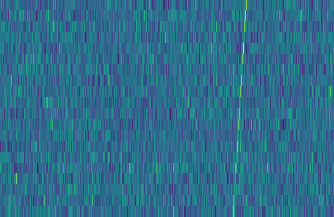signal: (229, 0, 252, 217)
